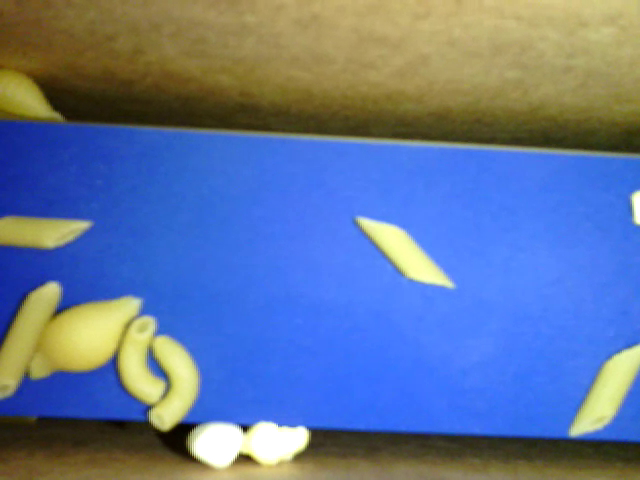elbow: (145, 333, 201, 437), (122, 312, 170, 404)
penne: (1, 279, 66, 402), (355, 216, 457, 291), (568, 344, 636, 438), (1, 217, 94, 251)
shell: (29, 292, 146, 384), (1, 66, 69, 124)
